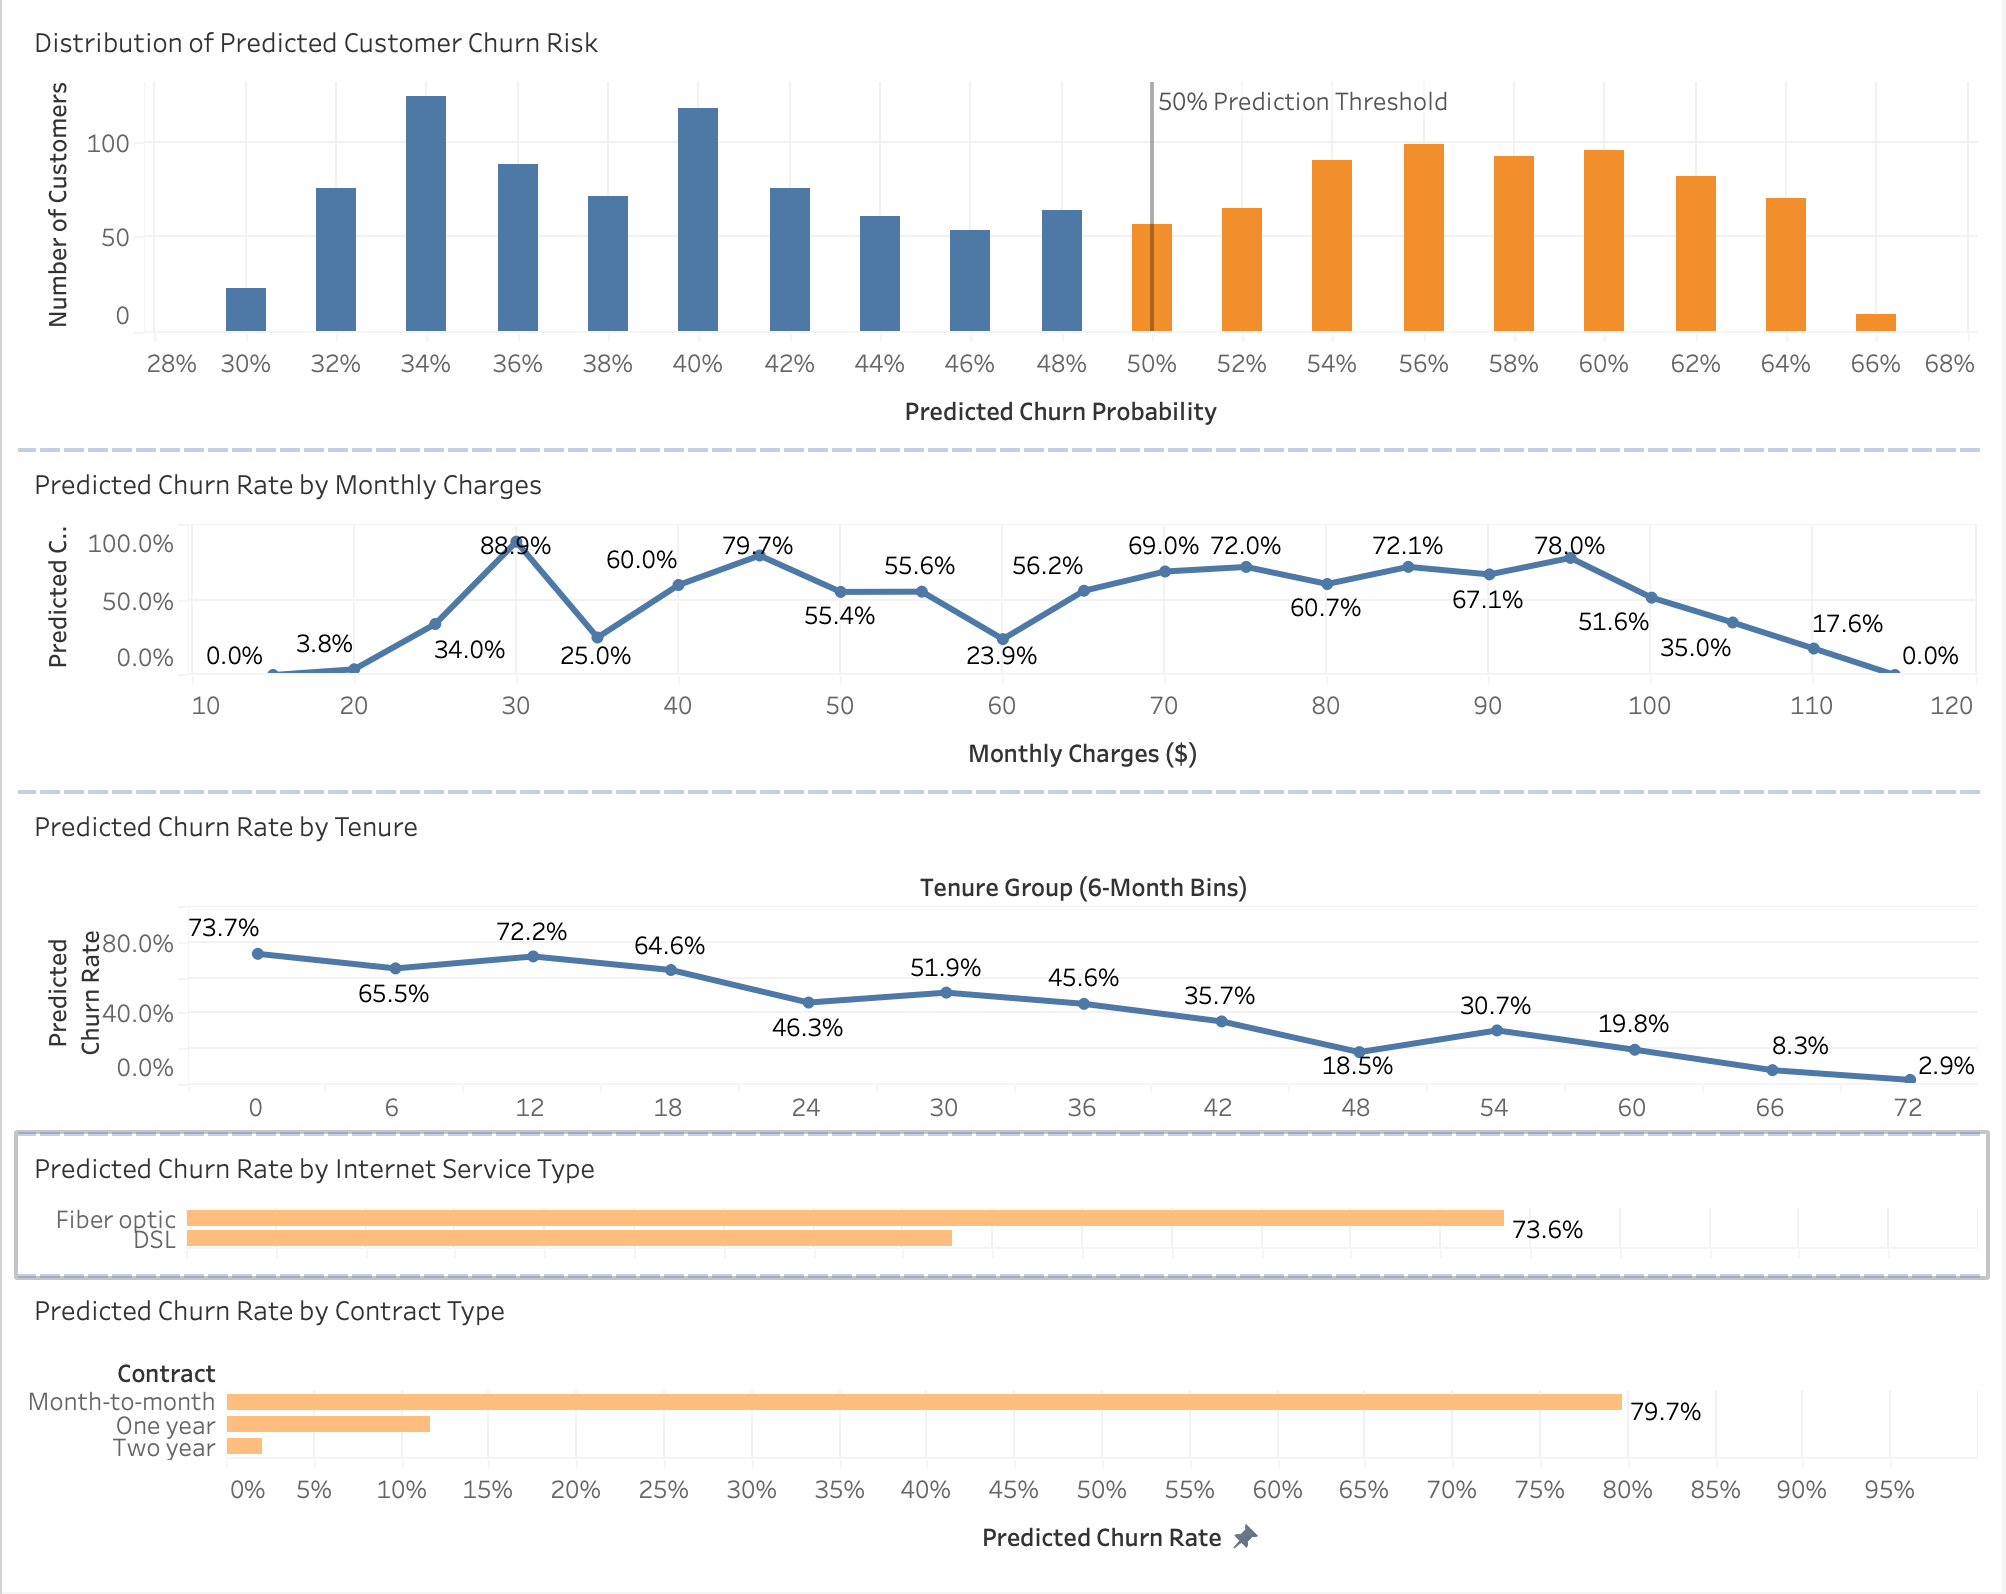

What the dashboard file says about the page in this screenshot:
{"tool":"tableau","page":{"name":"Customer Churn Risk Dashboard","canvas":[1000,800],"ordinal":0},"visuals":[{"type":"worksheet","title":"Dist of Predicted Churn Risk","mark":"Bar","rows":["churn_probability"],"cols":["Calculation_6161416435990529"],"box":[8,8,984,221]},{"type":"worksheet","title":"Predicted Churn Rate by Monthly Charges","mark":"Line","rows":["predicted_churn"],"cols":["Monthly Charges (bin)"],"box":[8,229,984,171]},{"type":"worksheet","title":"Predicted Churn Rate by Tenure","mark":"Line","rows":["predicted_churn"],"cols":["Tenure (bin)"],"box":[8,400,984,171]},{"type":"worksheet","title":"Predicted Churn by Internet Service","mark":"Bar","rows":["InternetService"],"cols":["predicted_churn"],"box":[8,571,984,71]},{"type":"worksheet","title":"Predicted Churn by Contract Type","mark":"Bar","rows":["Contract"],"cols":["predicted_churn"],"box":[8,642,984,150]}]}

Visuals, with their boxes in screenshot pixels (x1, y1, x2, y2), scaled from the page's 1000x800 canvas onto the 2006x1594 screenshot:
"Dist of Predicted Churn Risk" worksheet (Bar marks): <region>16, 16, 1990, 456</region>
"Predicted Churn Rate by Monthly Charges" worksheet (Line marks): <region>16, 456, 1990, 797</region>
"Predicted Churn Rate by Tenure" worksheet (Line marks): <region>16, 797, 1990, 1138</region>
"Predicted Churn by Internet Service" worksheet (Bar marks): <region>16, 1138, 1990, 1279</region>
"Predicted Churn by Contract Type" worksheet (Bar marks): <region>16, 1279, 1990, 1578</region>
